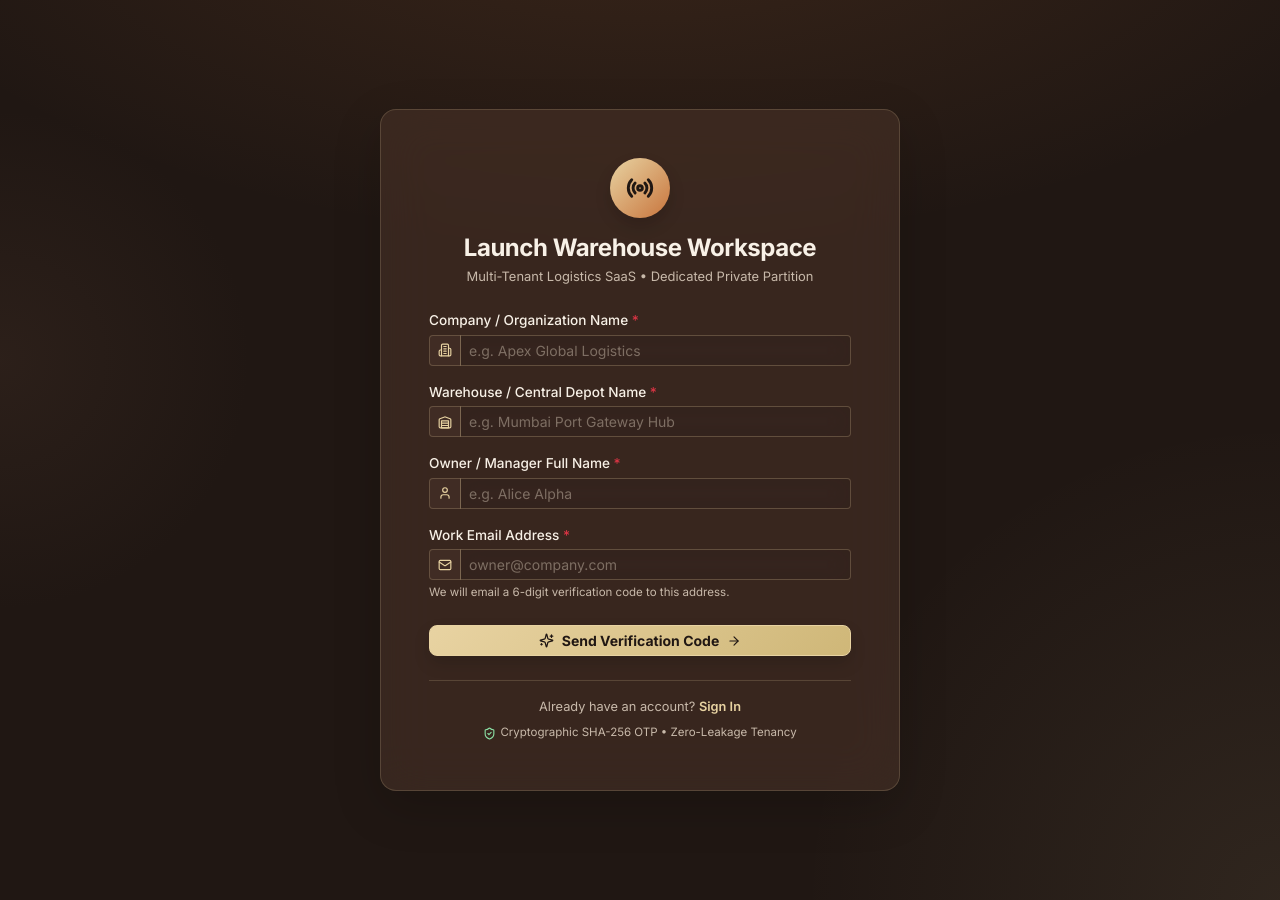
it: Phase 11 — Multi-Tenant SaaS, Public Landing Page & Email OTP Authentication › SignupPage (2-Step Email OTP Onboarding) › displays error message when verification code is incorrect
Submit step 1
Type "Apex Logistics Corp" into the field labelled "Company / Organization Name *".
click(656, 350); type("Apex Logistics Corp")  # box top-left (460, 335), bottom-right (851, 366)
Type "Mumbai West Depot" into the field labelled "Warehouse / Central Depot Name *".
click(656, 422); type("Mumbai West Depot")  # box top-left (460, 406), bottom-right (851, 437)
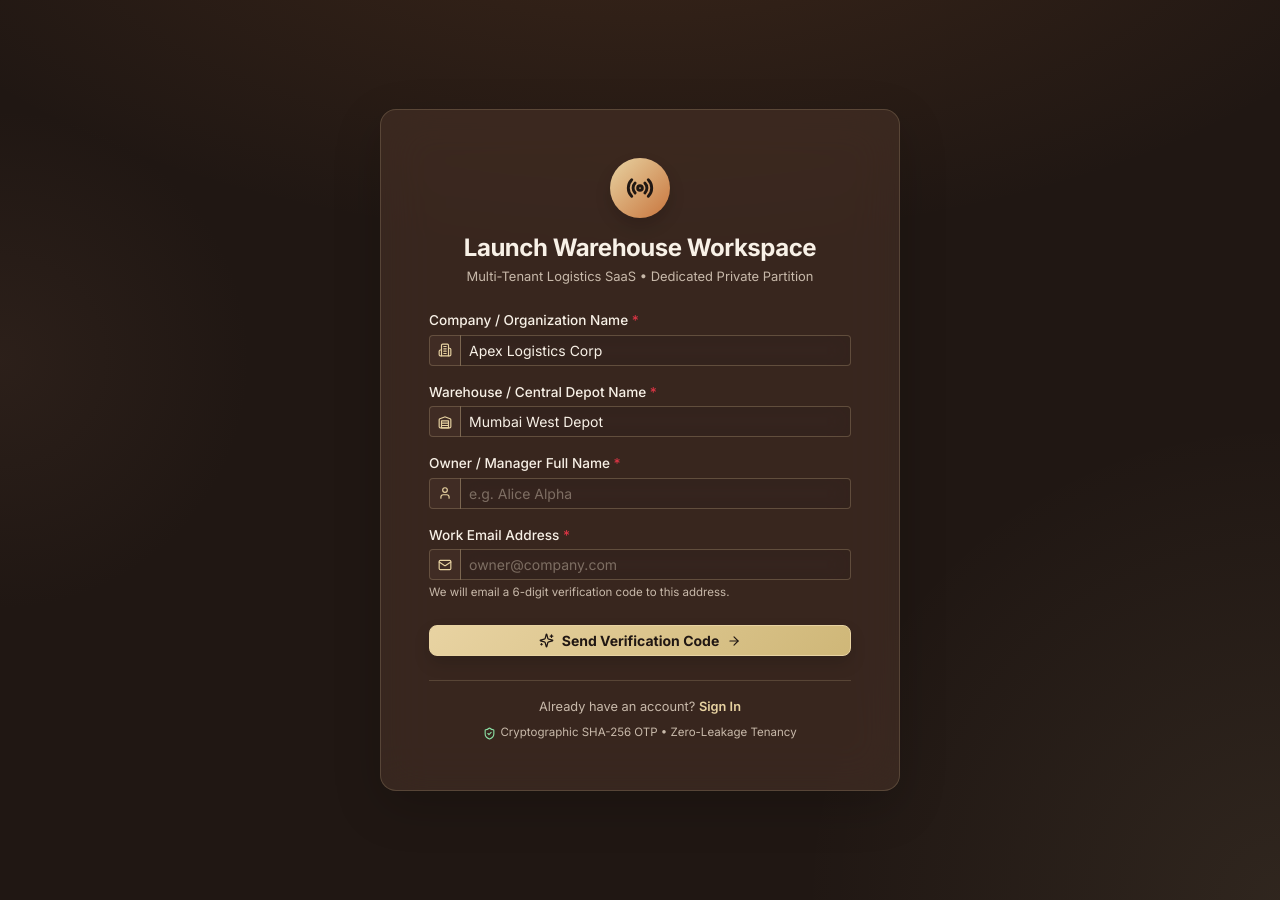
Type "Warehouse Owner" into the field labelled "Owner / Manager Full Name *".
click(656, 493); type("Warehouse Owner")  # box top-left (460, 478), bottom-right (851, 509)
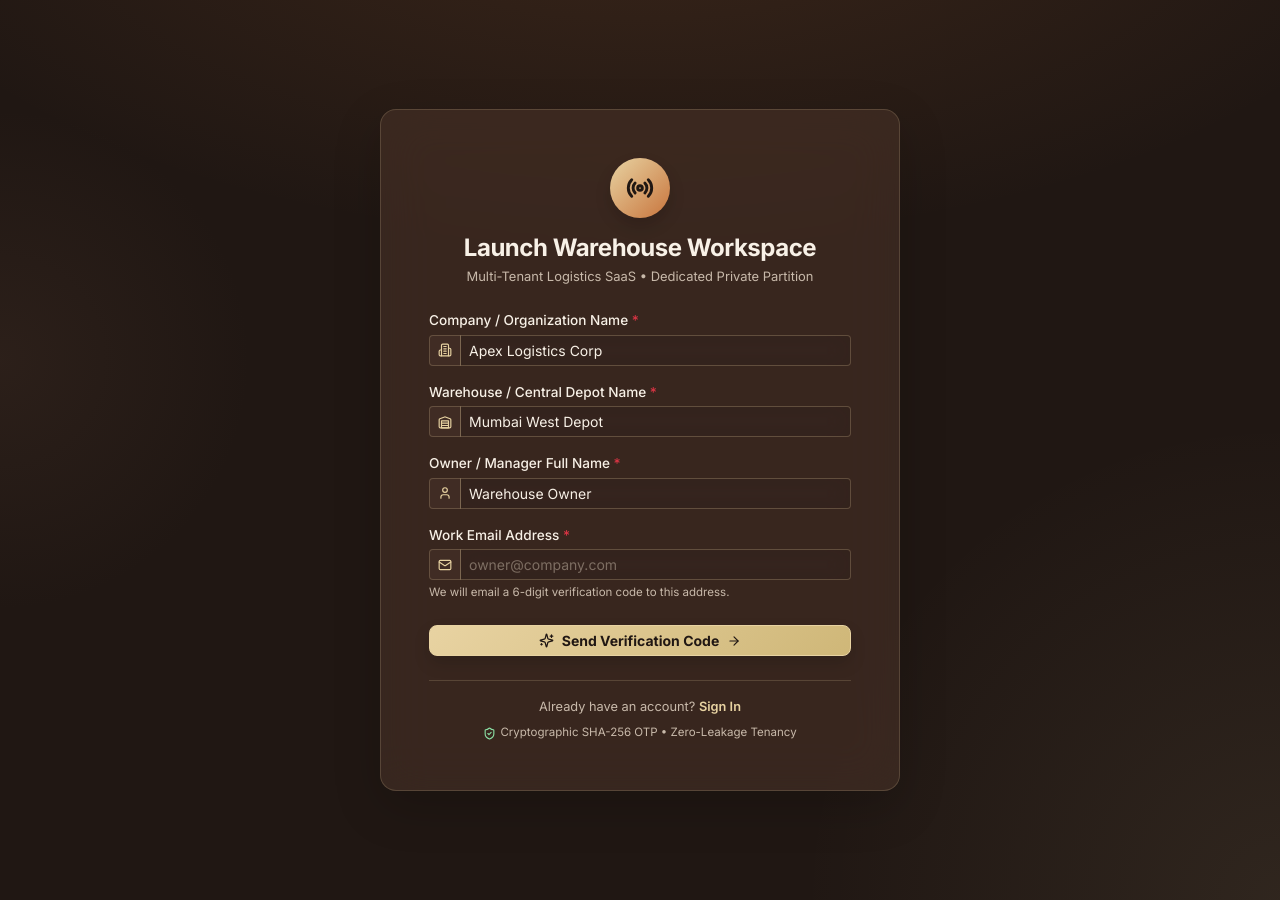
Type "owner@warehouse.test" into the field labelled "Work Email Address *".
click(656, 564); type("owner@warehouse.test")  # box top-left (460, 549), bottom-right (851, 580)
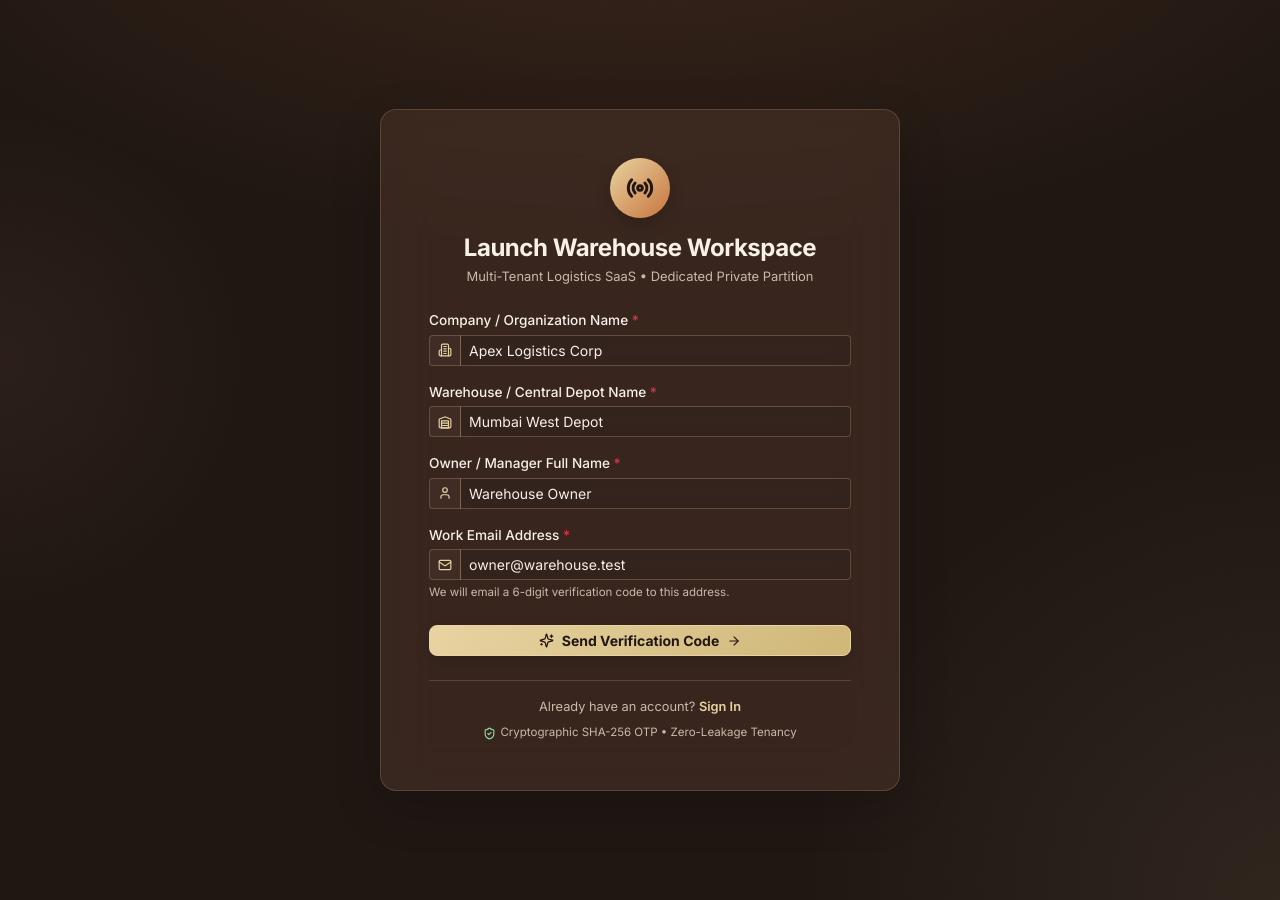
Click the button "Send Verification Code".
click(640, 641)  # box top-left (429, 625), bottom-right (851, 656)
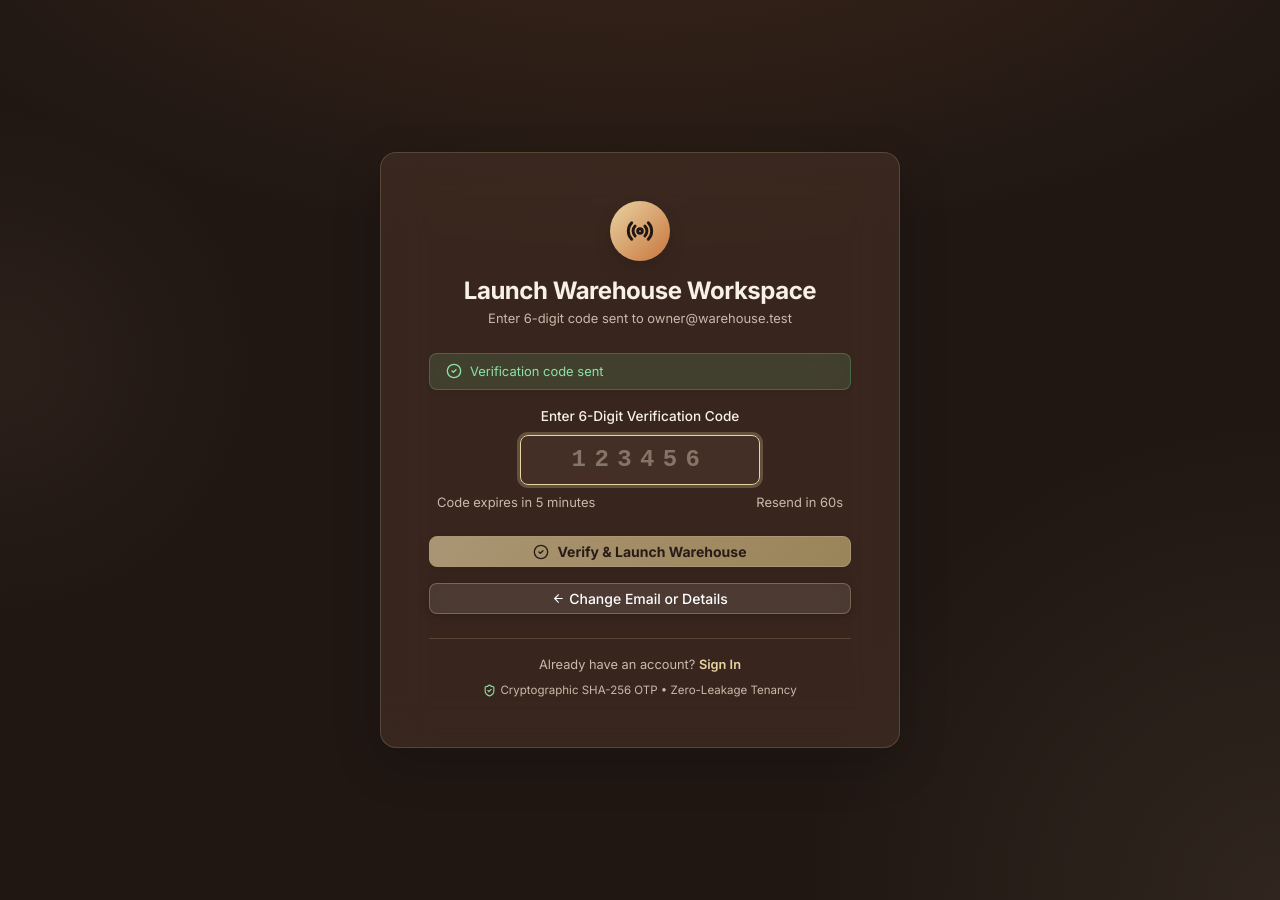
expect the field labelled "Enter 6-Digit Verification Code" is shown: met
Enter wrong code
Type "000000" into the field labelled "Enter 6-Digit Verification Code".
click(640, 460); type("000000")  # box top-left (520, 435), bottom-right (760, 485)
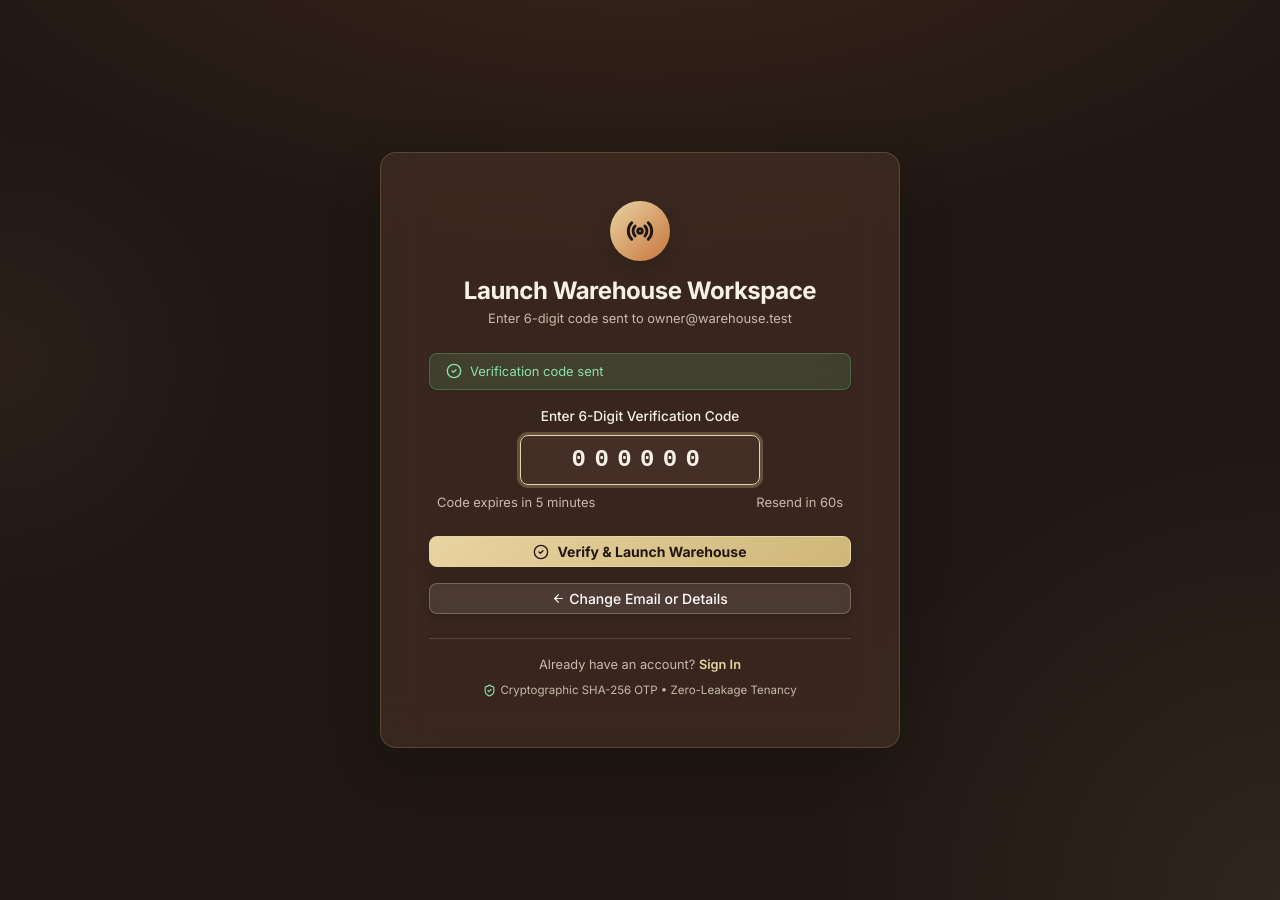
Click the button "Verify & Launch Warehouse".
click(640, 552)  # box top-left (429, 536), bottom-right (851, 567)
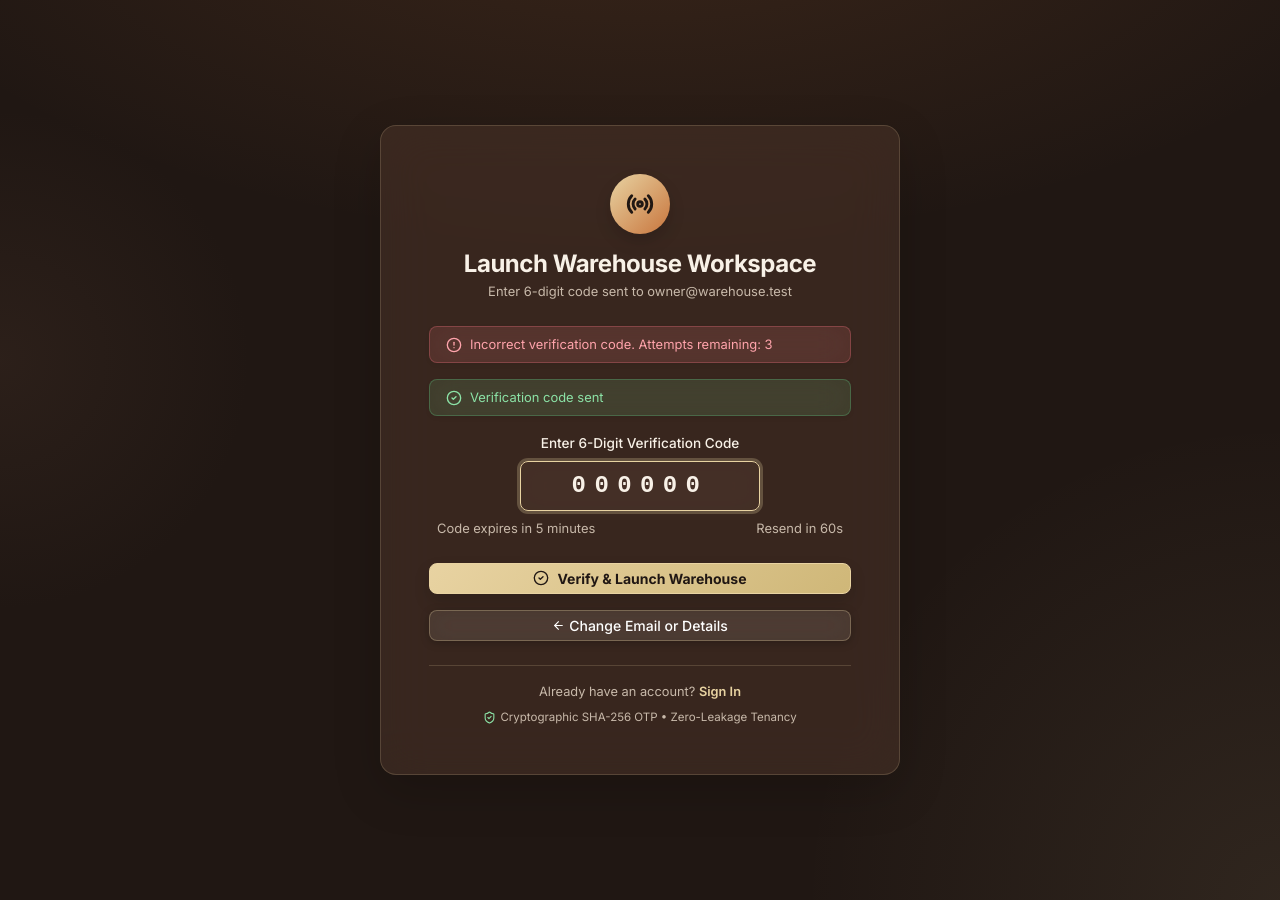
expect the text "Incorrect verification code. Attempts remaining: 3" is shown: met, box top-left (470, 335), bottom-right (773, 354)
